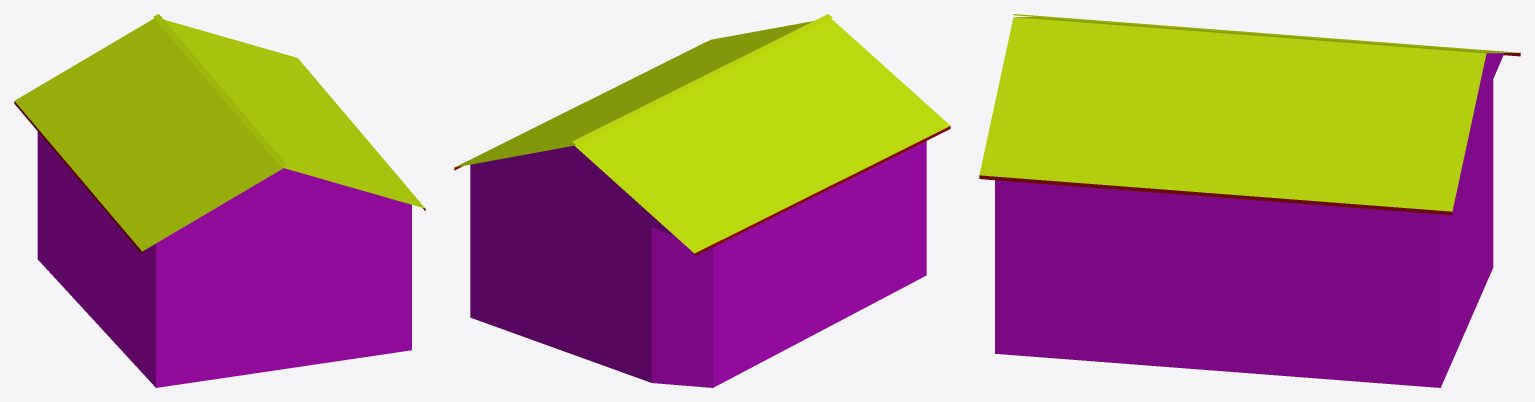
File: ferme_pise.glb
3 renders of one model, left to right at view 1: azimuth 30°, elevation 25°; view 2: azimuth 150°, elevation 25°; view 3: azimuth 270°, elevation 25°, orthographic. The views are drawn at different scales.
Visible parts, largest first — view 1: ferme_pise; view 2: ferme_pise; view 3: ferme_pise.
Part boxes in pixels (left/top/right/bottom): ferme_pise: left=14, top=14, right=425, bottom=387; ferme_pise: left=454, top=14, right=950, bottom=387; ferme_pise: left=979, top=14, right=1520, bottom=387.
Size of the model in its own units: 13.72 by 8.7 by 16.08.
